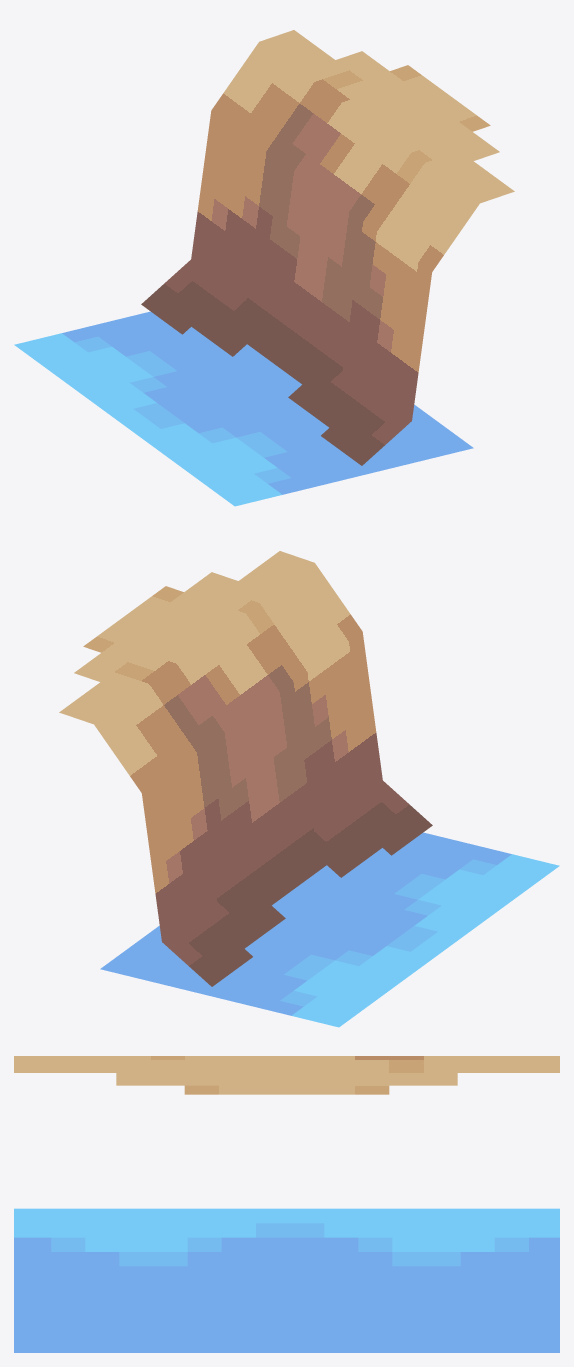
3 renders of one model, top to bottom at view 1: azimuth 30°, elevation 25°; view 2: azimuth 150°, elevation 25°; view 3: azimuth 270°, elevation 25°, orthographic. The views are drawn at different scales.
Size of the model in its own units: 0.8496 by 0.627 by 1.
2 materials, 2 textured.
